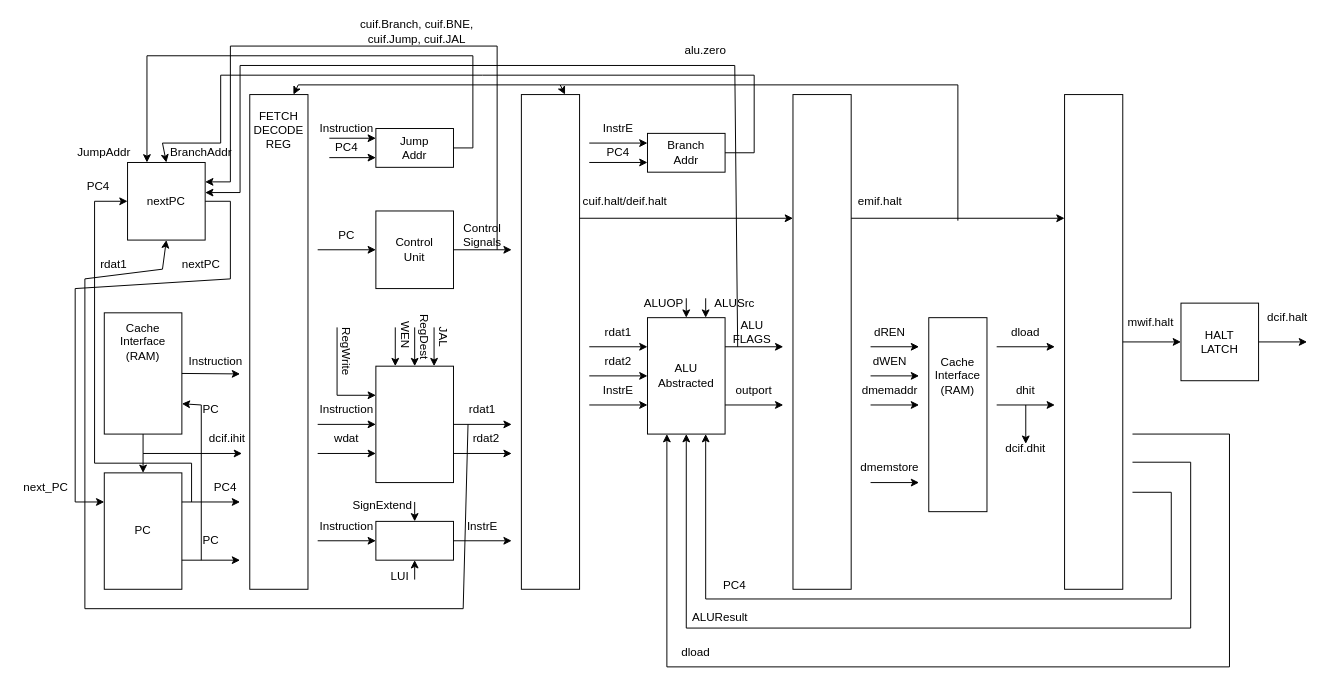
The diagram is 1333 pixels wide and 692 high, and some of its shapes have lost their labels. The shapes that lost their labels are listed below. From the top down, each one's centre as x and y in pixels, then its label:
At (x=550, y=341): "DECODE EXECUTE REG".
At (x=821, y=341): "EXECUTE MEM REG".
At (x=1093, y=341): "MEM WB REG".
At (x=414, y=424): "Register Abstracted".
At (x=414, y=540): "Sign Extend".
